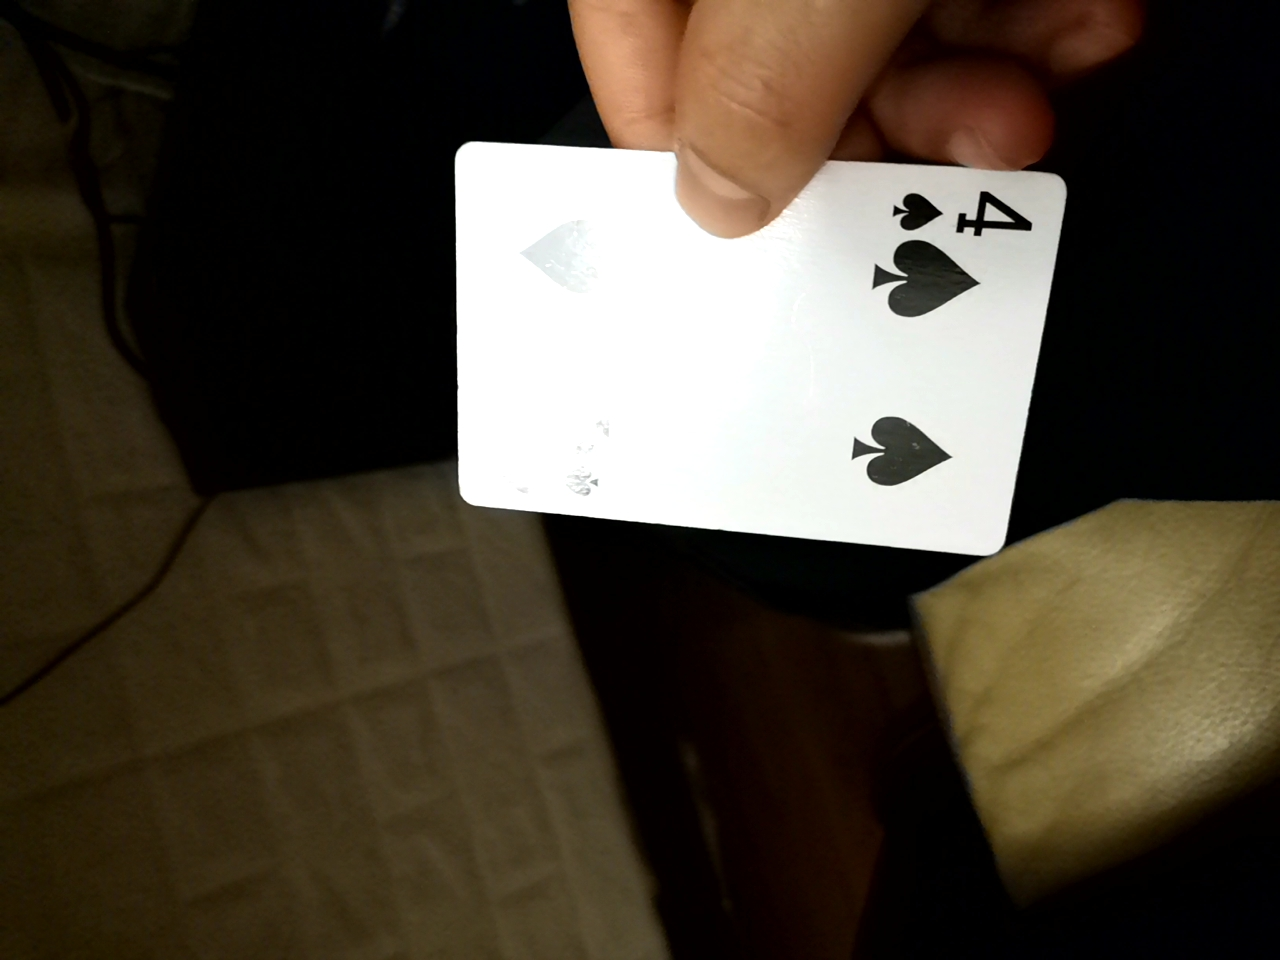ht 4: (420, 119, 1052, 554)
